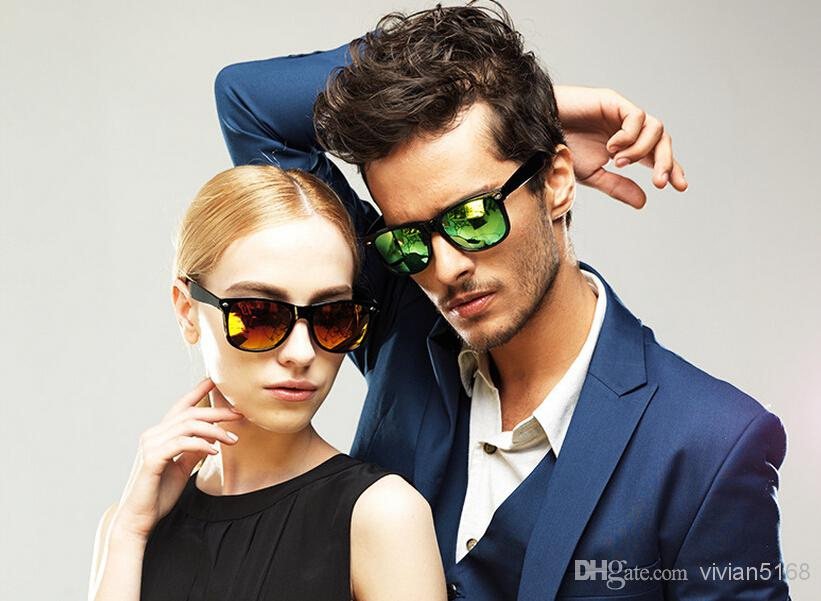sunglasses: (361, 165, 574, 260), (168, 269, 391, 354)
